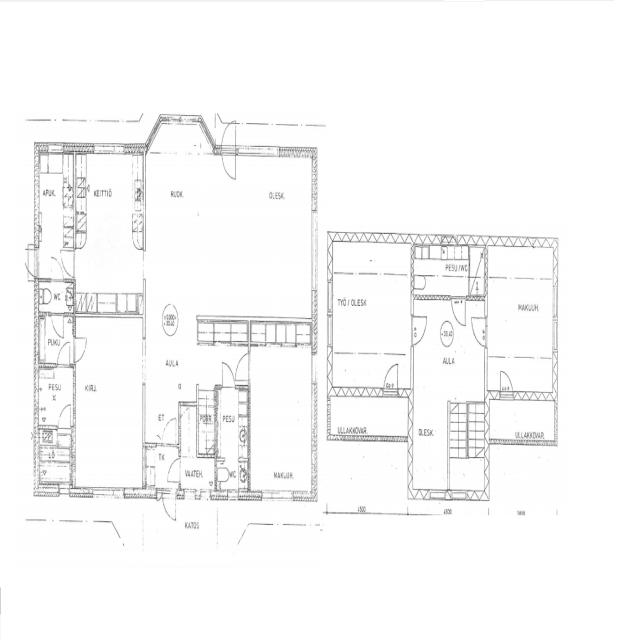door: (221, 145, 236, 183), (221, 117, 236, 155), (383, 363, 398, 401), (20, 249, 40, 276), (410, 316, 428, 346), (162, 488, 176, 524), (470, 318, 487, 347), (451, 295, 465, 328), (500, 367, 513, 401), (162, 416, 176, 446), (60, 250, 76, 276), (56, 338, 70, 367), (235, 354, 250, 380), (222, 361, 235, 388), (74, 337, 88, 361), (51, 254, 63, 282), (58, 402, 70, 429), (167, 458, 180, 482), (52, 313, 64, 339), (157, 488, 162, 507), (156, 432, 162, 446)
